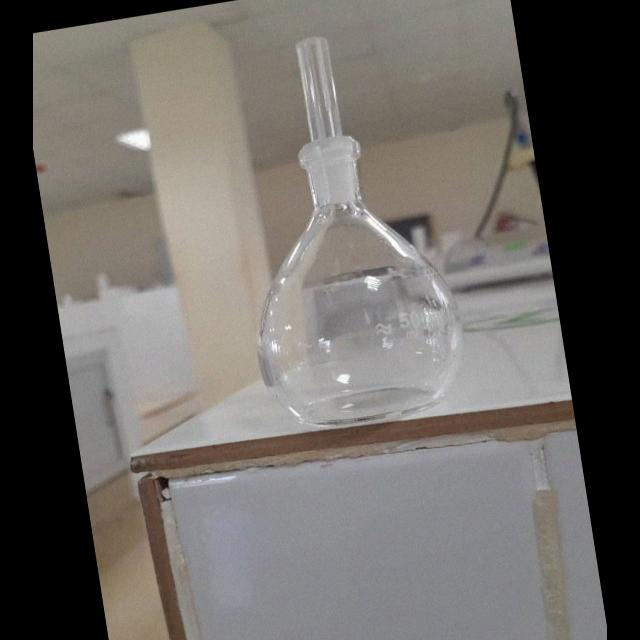Density Bottle for Liquids: (199, 7, 481, 448)
